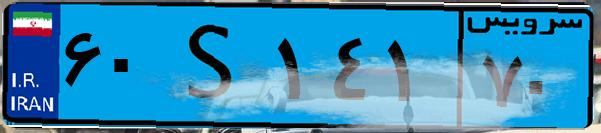0: (525, 38, 570, 115), (110, 28, 158, 98)
1: (270, 28, 330, 110), (385, 28, 445, 110)
4: (330, 28, 385, 110)
6: (57, 26, 110, 100)
7: (475, 38, 525, 113)
S: (158, 12, 270, 120)
